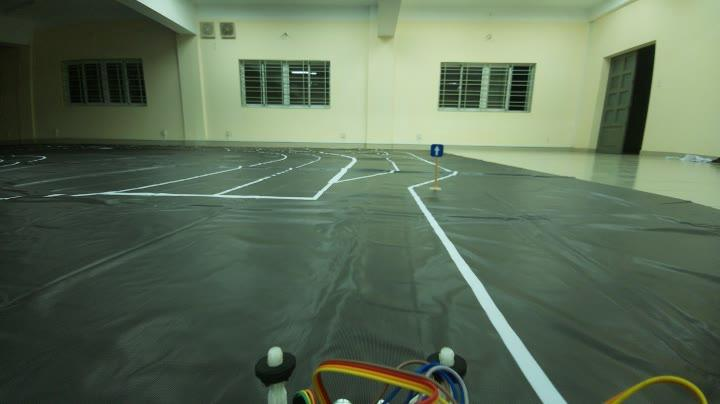onewayroad: (428, 139, 448, 165)
